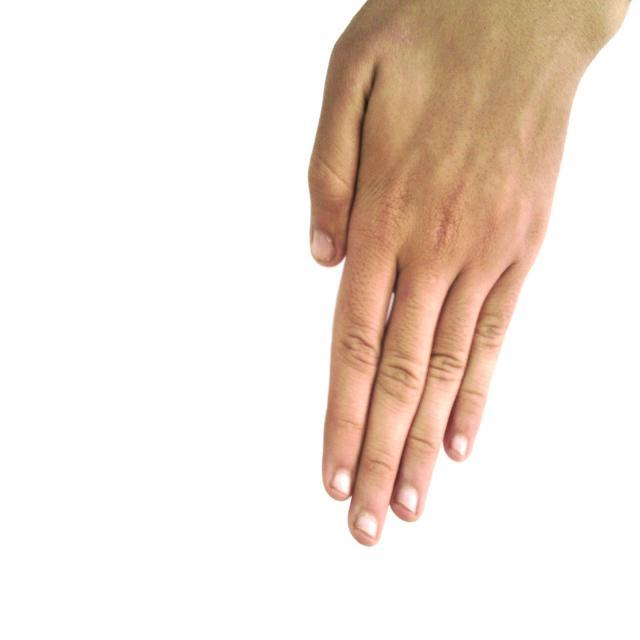Fingernail: (312, 232, 333, 262), (355, 513, 378, 539), (396, 487, 417, 511), (332, 470, 352, 495), (451, 434, 468, 456)
